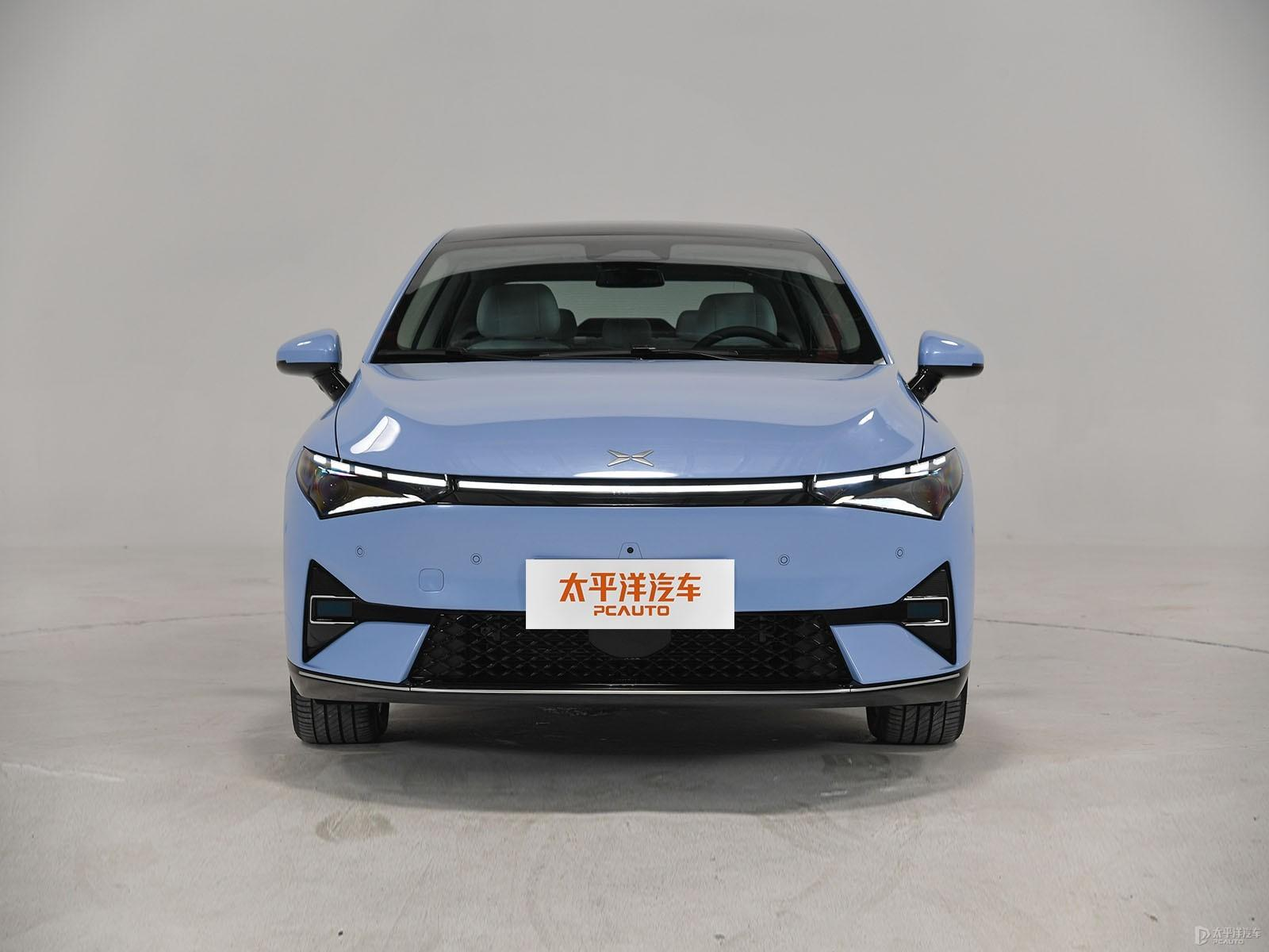XPeng Motors: (606, 449, 654, 467)
